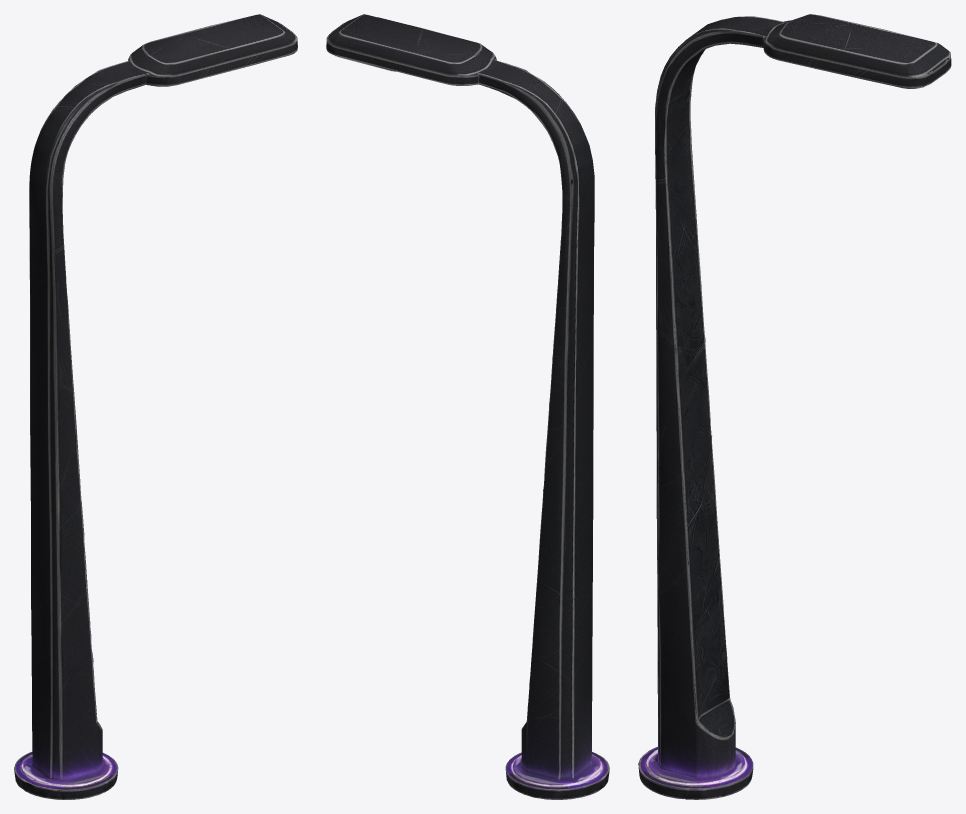
The model's file is neon-lamp.glb.
3 renders of one model, left to right at view 1: azimuth 30°, elevation 25°; view 2: azimuth 150°, elevation 25°; view 3: azimuth 330°, elevation 25°, orthographic. The views are drawn at different scales.
Parts seen in each view (by area): view 1: MeshyFit; view 2: MeshyFit; view 3: MeshyFit.
Part boxes in pixels (x1,y1,x2,y2): MeshyFit: (14,14,297,799); MeshyFit: (326,14,609,799); MeshyFit: (638,14,951,799).
Bounding box in the file's own units: 2.57 × 6.5 × 0.8668.
1 material, 1 textured.
